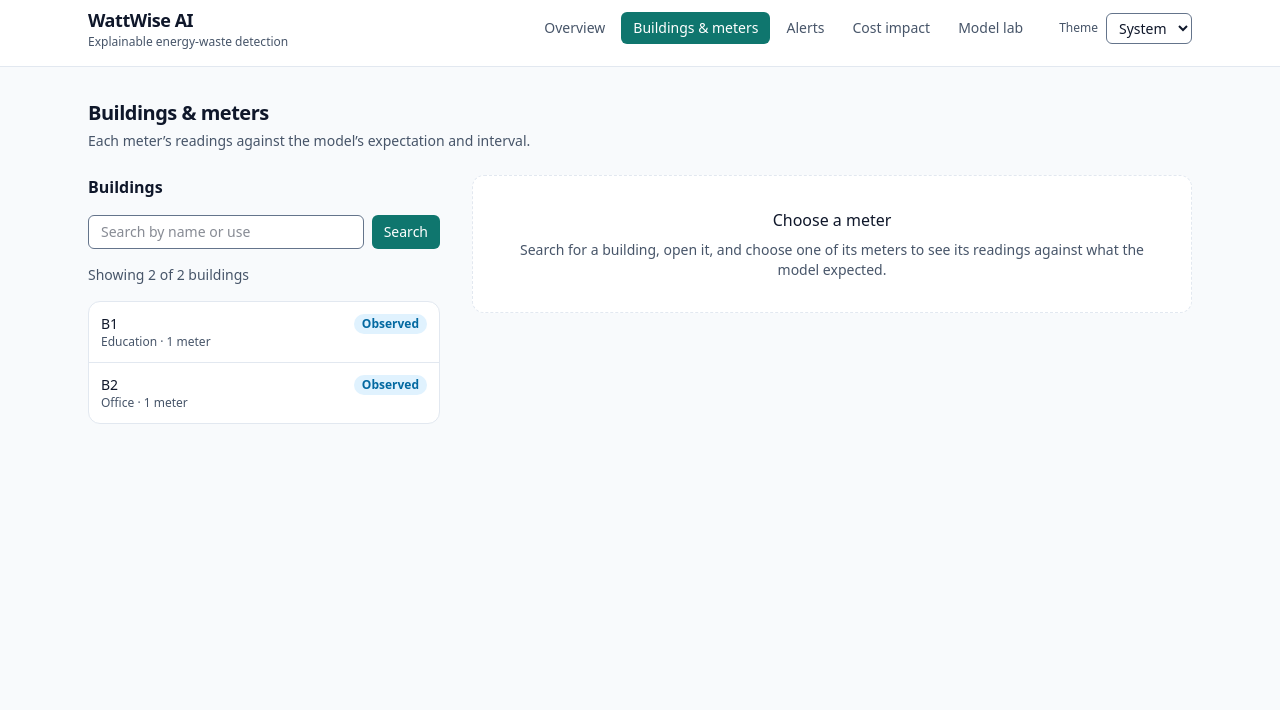
Explorer: a meter › repeats the caveats from the API
This screenshot has width=1280, height=710.
Click the button "B1 Education · 1 meter Observed". click: coordinates (129, 342)
box: [101,314,427,350]
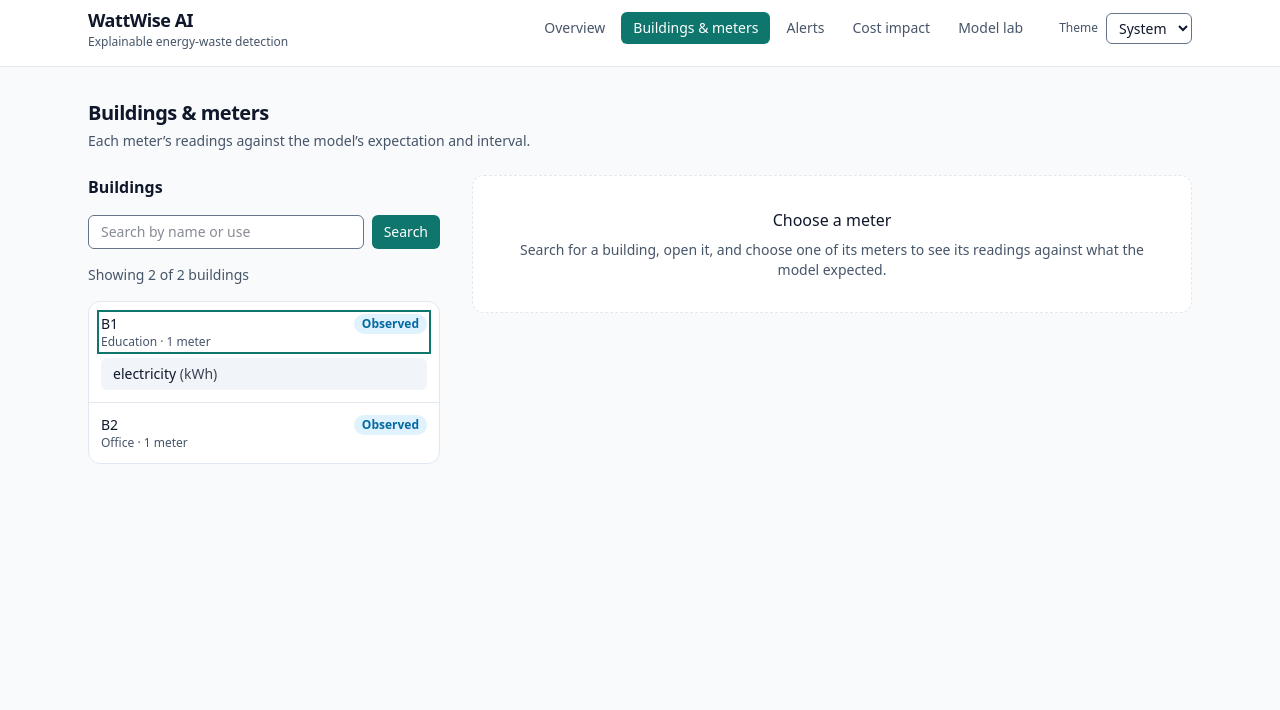
Click the button "electricity (kWh)". click: coordinates (145, 374)
box: [101,358,427,390]
(page scrolled)
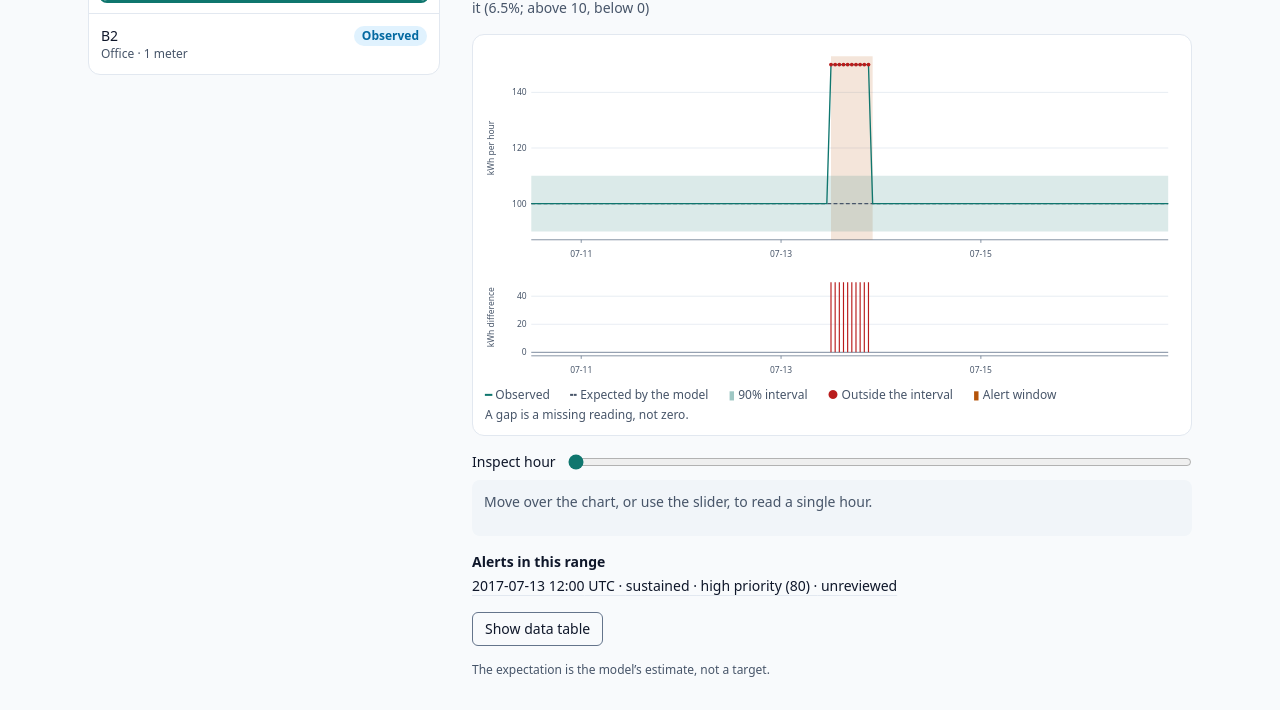
Expected: the list item "The expectation is the model’s estimate, not a target." is shown, [472,661,770,678]
